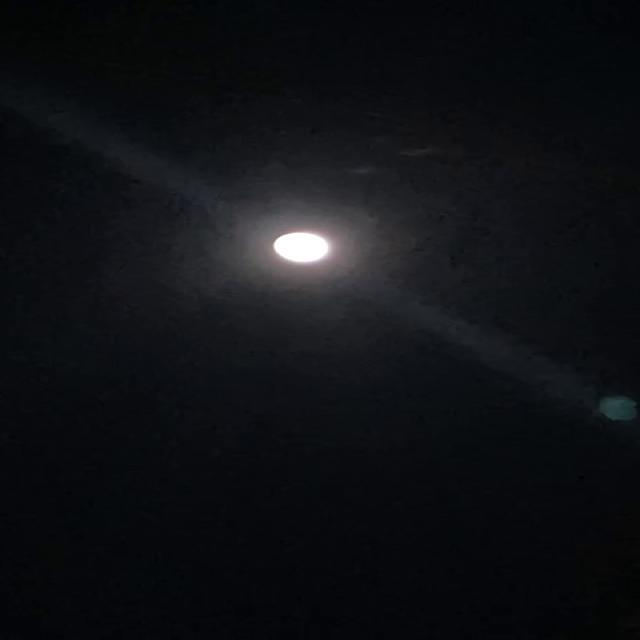moon: (220, 210, 347, 280)
